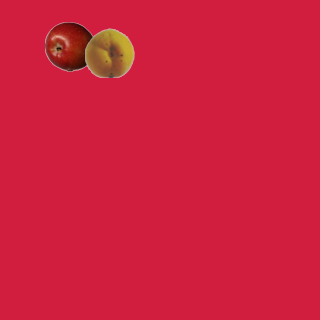Apple Braeburn: (44, 21, 94, 71)
Peach 2: (84, 27, 134, 77)
